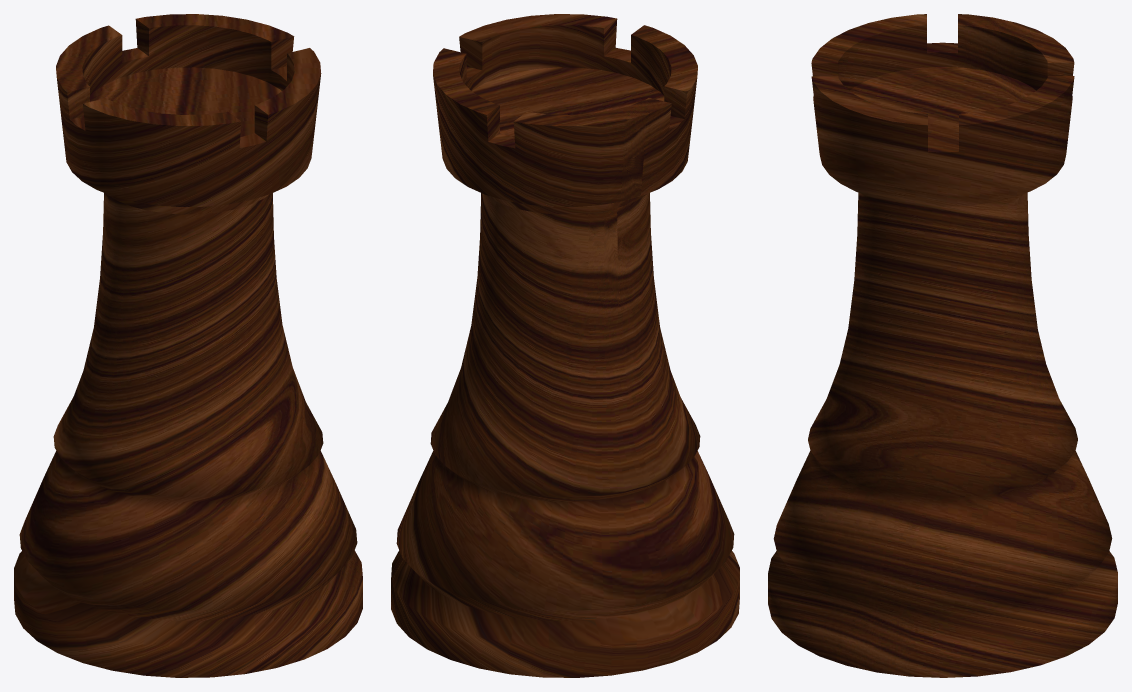
File: rook.obj
3 views of the same model, side by side, from view 1: azimuth 30°, elevation 25°; view 2: azimuth 150°, elevation 25°; view 3: azimuth 270°, elevation 25° (orthographic).
Visible parts, largest first — view 1: rook.003_Cylinder.006; view 2: rook.003_Cylinder.006; view 3: rook.003_Cylinder.006.
Boxes of the visible parts, left/top/right/bottom form: rook.003_Cylinder.006: left=14, top=14, right=362, bottom=677; rook.003_Cylinder.006: left=391, top=14, right=739, bottom=677; rook.003_Cylinder.006: left=768, top=14, right=1117, bottom=677.
Bounding box in the file's own units: 1.12 × 1.9 × 1.12.
